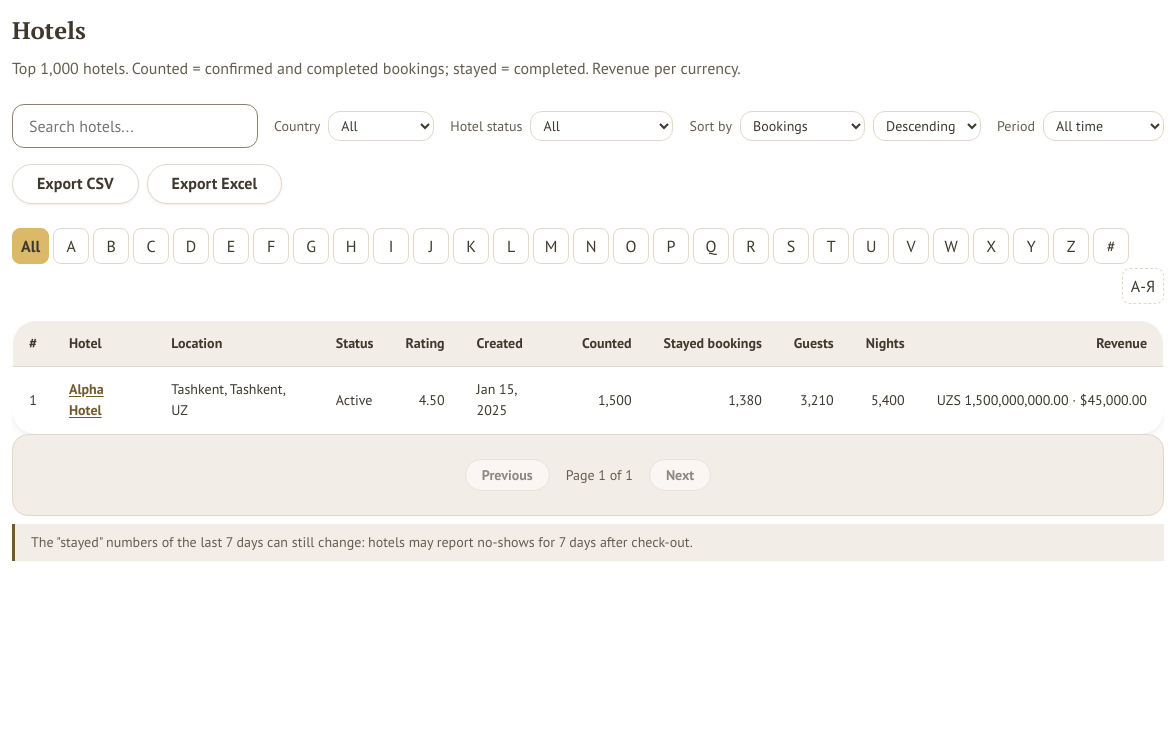
AdminStatusHotels › keeps the period selector after a backend validation error
Expected: the button "Alpha Hotel" is shown, [69,379,139,421]
Select "Last 10 years" in the dropdown labelled "Period" at (1104, 126), box [1043,111,1164,141]
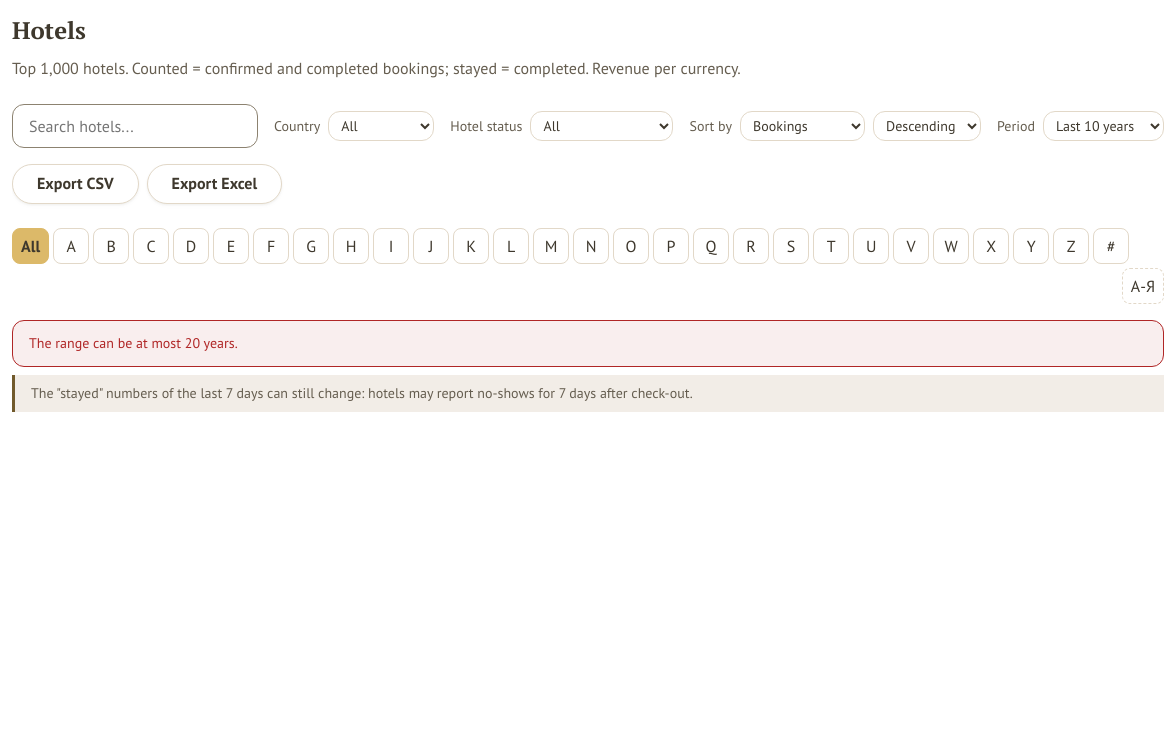
Expected: the message shows "at most 20 years", [29,334,238,352]
